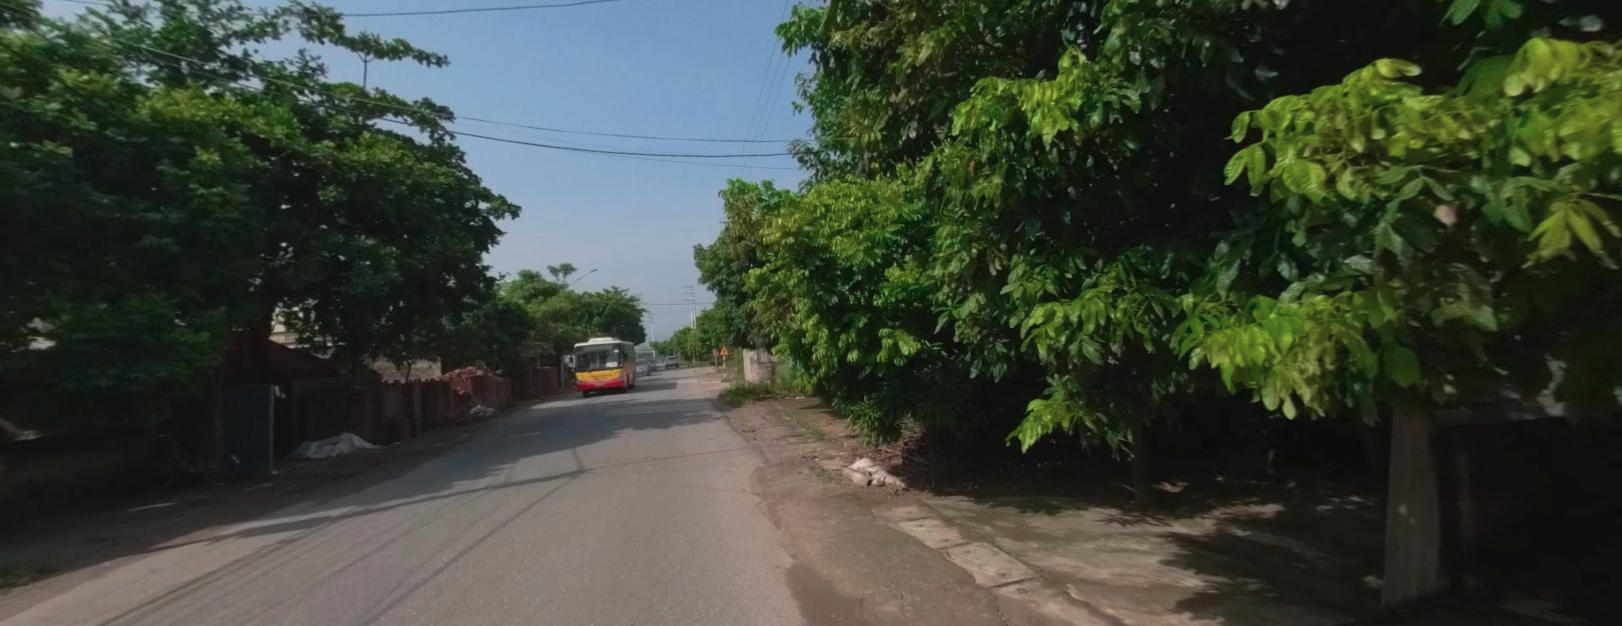Nguy hiem: (719, 344, 729, 353), (720, 345, 728, 354)
